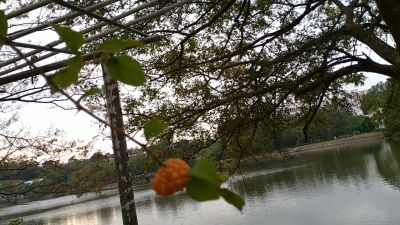eggs: (152, 156, 192, 197)
